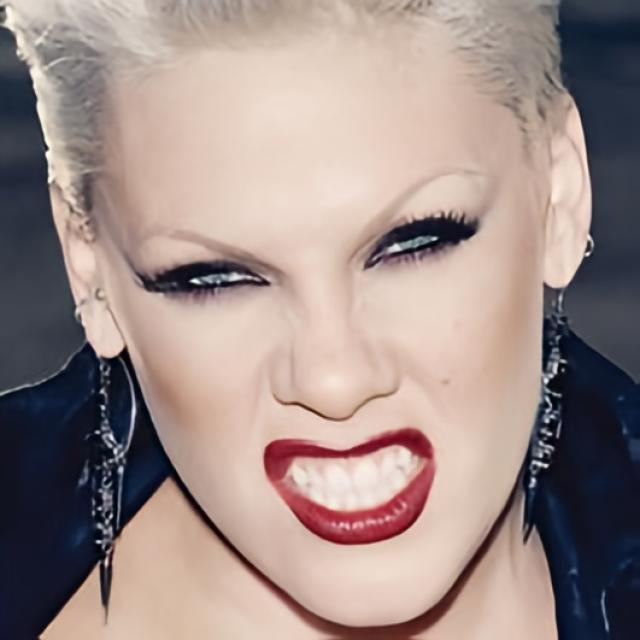anger: (117, 14, 534, 596)
